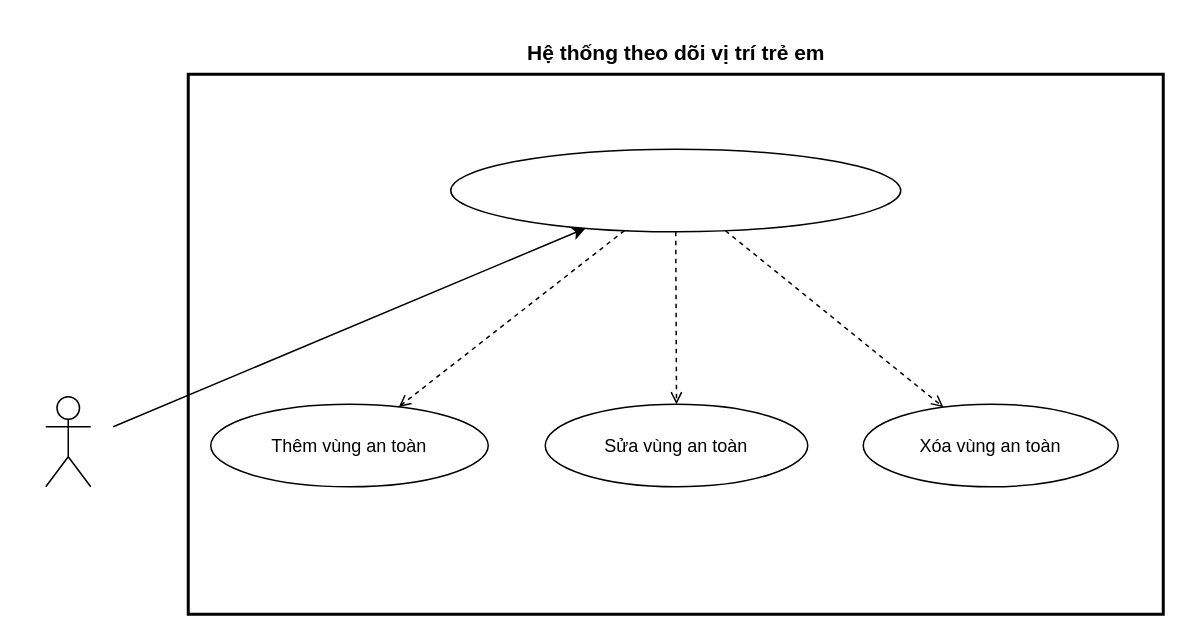
Some shapes in this 1191 by 641 pixel diagram are drawn without their labels. Each missing label, with the box of its shape:
Phụ huynh: (44, 395, 91, 487)
Quản lý vùng an toàn (Geofence): (449, 148, 901, 232)
